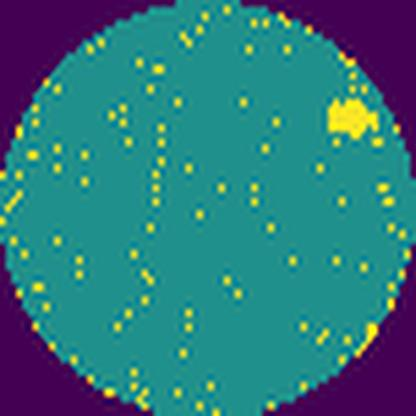Loc: (329, 97, 382, 139)
